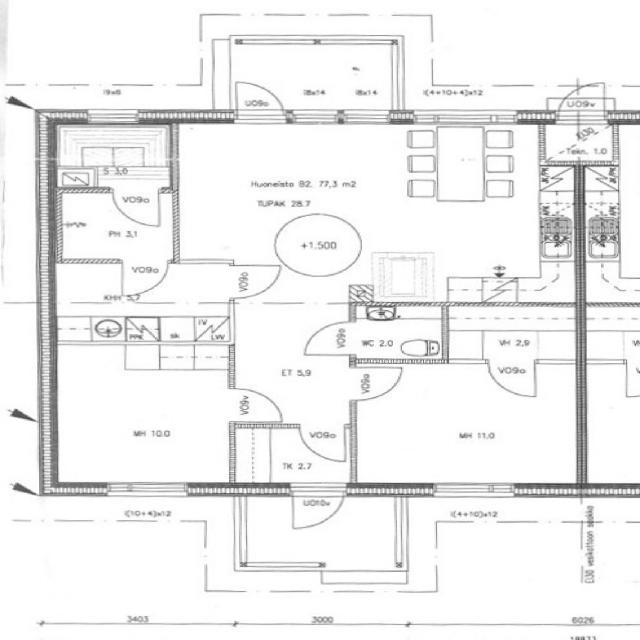door: (292, 482, 343, 532), (237, 76, 283, 123), (558, 76, 604, 123), (228, 265, 282, 298), (488, 359, 534, 397), (228, 389, 282, 421), (113, 187, 158, 225), (123, 258, 167, 296), (304, 322, 356, 354), (349, 367, 401, 399), (299, 424, 344, 460)
